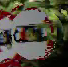Heavy Vehicles: (6, 4, 66, 66)
